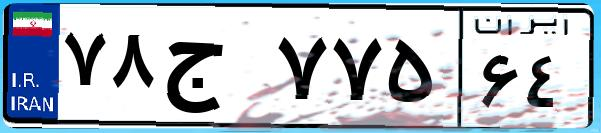4: (525, 38, 570, 115)
5: (385, 28, 445, 110)
6: (475, 38, 525, 113)
7: (270, 28, 330, 110), (330, 28, 385, 110), (57, 26, 110, 100)
8: (110, 28, 158, 98)
ج: (158, 20, 270, 120)
